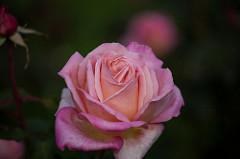Rose: (52, 39, 188, 159)
